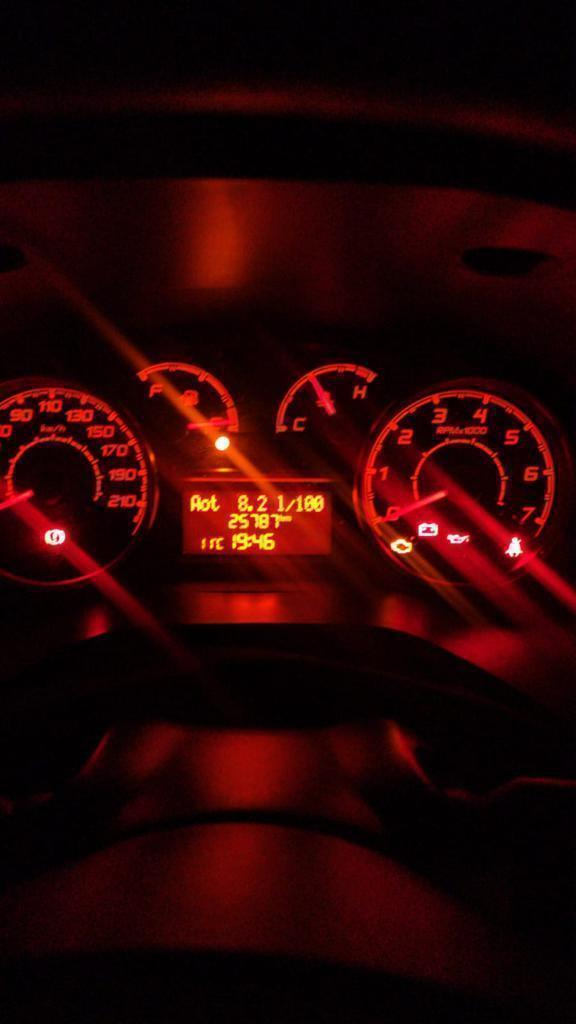,: (247, 504, 253, 512)
0: (303, 494, 314, 512), (314, 495, 324, 512)
1: (296, 494, 303, 512), (231, 533, 236, 549), (208, 537, 214, 550), (200, 537, 206, 550)
2: (256, 494, 268, 512), (227, 513, 238, 528)
4: (252, 533, 263, 550)
5: (238, 513, 249, 528)
6: (263, 532, 275, 550)
7: (249, 513, 259, 528), (270, 513, 279, 528)
8: (237, 494, 248, 511), (259, 513, 269, 528)
9: (236, 532, 248, 550)
X: (209, 493, 220, 512), (190, 494, 201, 512), (284, 498, 295, 512), (200, 498, 210, 512), (215, 536, 224, 550), (277, 494, 284, 511), (247, 536, 252, 547)
odometer: (178, 487, 335, 558)
